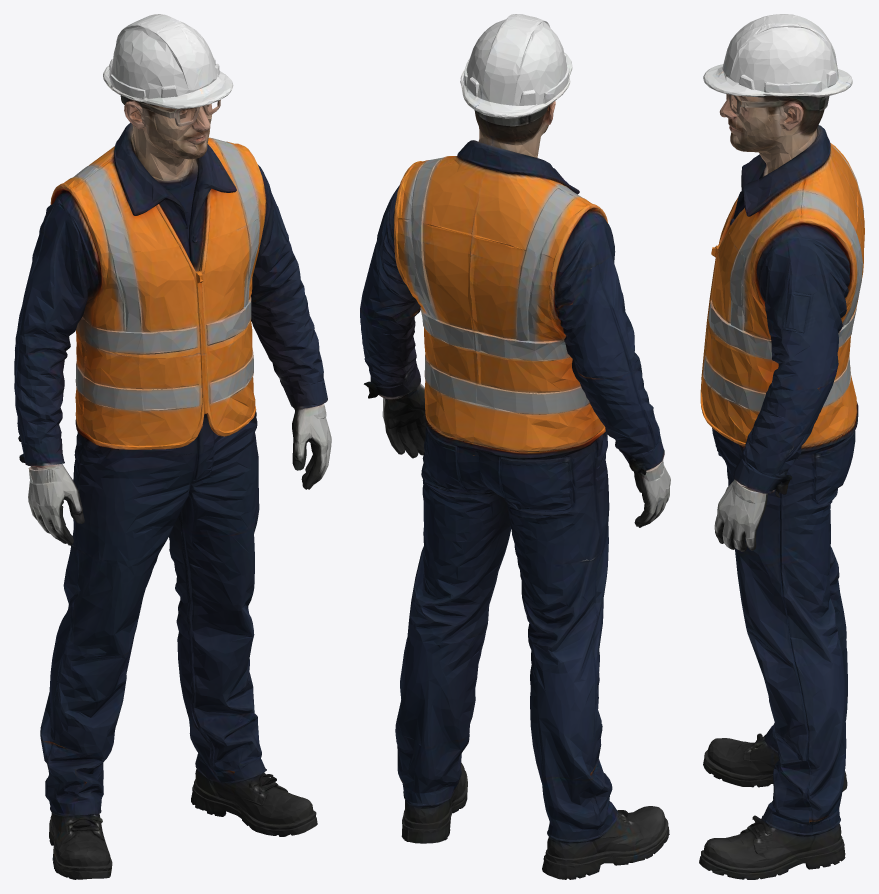
The model's file is worker.glb.
3 views of the same model, side by side, from view 1: azimuth 30°, elevation 25°; view 2: azimuth 150°, elevation 25°; view 3: azimuth 270°, elevation 25° (orthographic).
Size of the model in its own units: 0.372 by 0.9994 by 0.187.
1 material, 1 textured.
